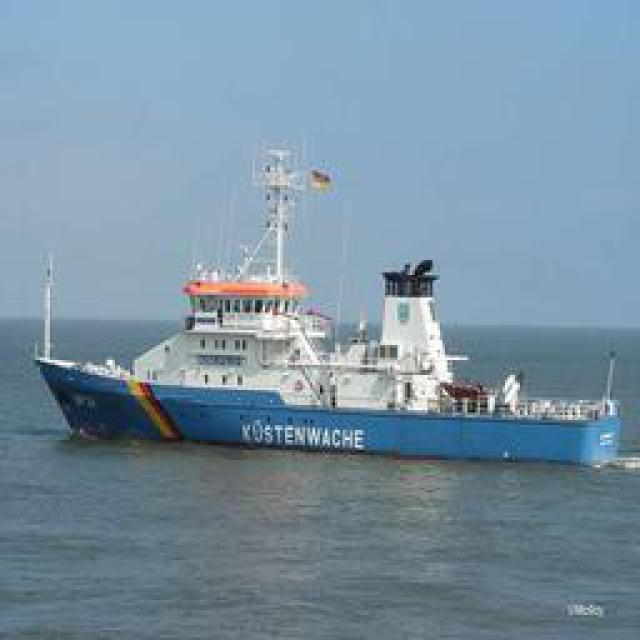Ship: (52, 151, 622, 459)
